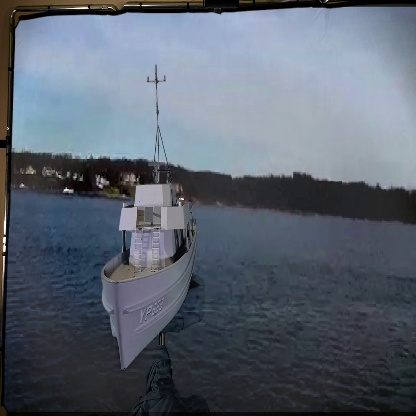YP689: (98, 64, 201, 371)
